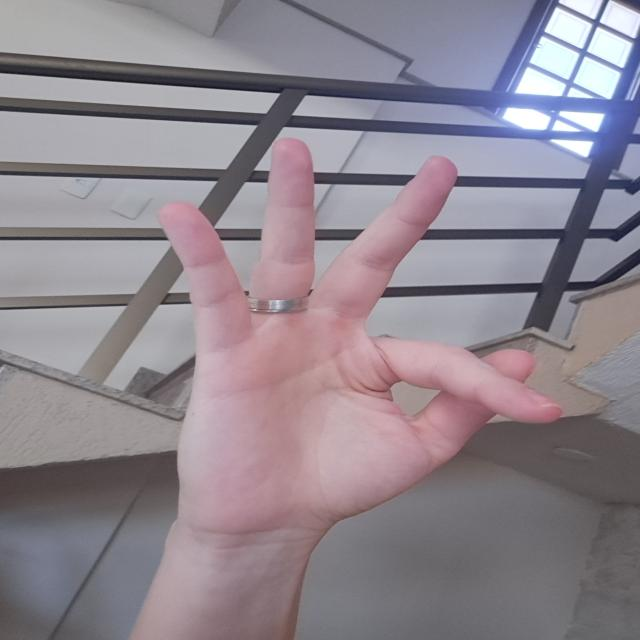F: (144, 127, 570, 534)
